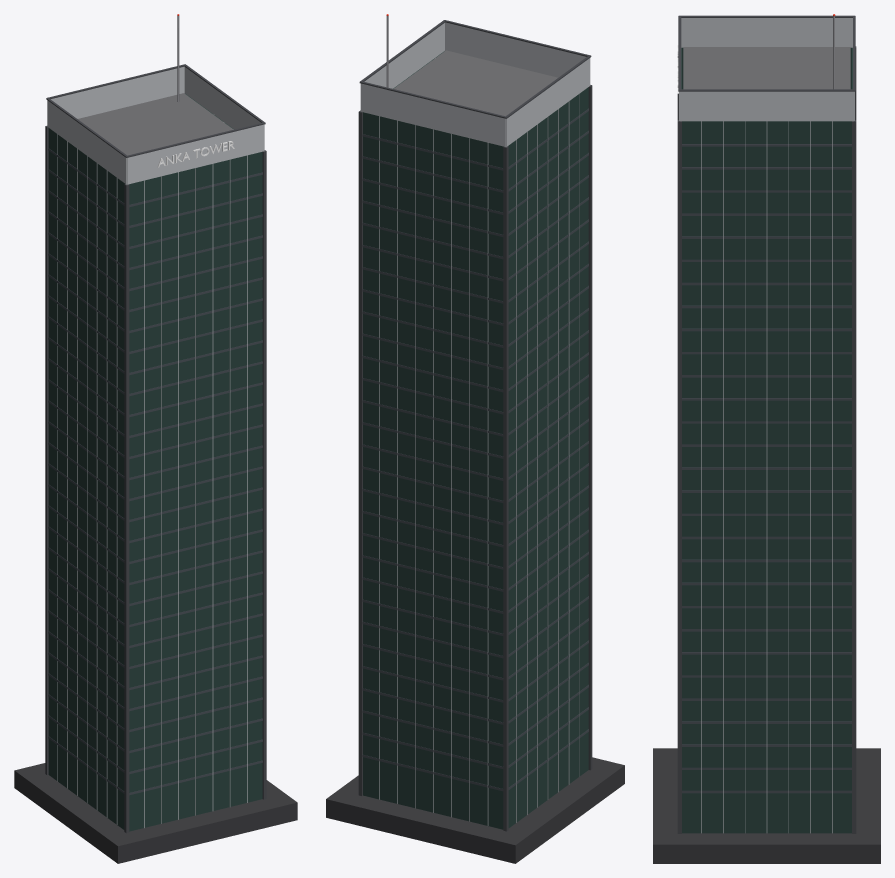
The model's file is bina_16.glb.
3 views of the same model, side by side, from view 1: azimuth 30°, elevation 25°; view 2: azimuth 150°, elevation 25°; view 3: azimuth 270°, elevation 25° (orthographic). The views are drawn at different scales.
Visible parts, largest first — view 1: P16_Plaza_B_L1.001; view 2: P16_Plaza_B_L1.001; view 3: P16_Plaza_B_L1.001.
Boxes of the visible parts, box(x1,y1,x2,y2) form: P16_Plaza_B_L1.001: box(14, 14, 297, 863); P16_Plaza_B_L1.001: box(326, 14, 624, 863); P16_Plaza_B_L1.001: box(653, 14, 880, 863).
Size of the model in its own units: 34 by 137 by 34.
